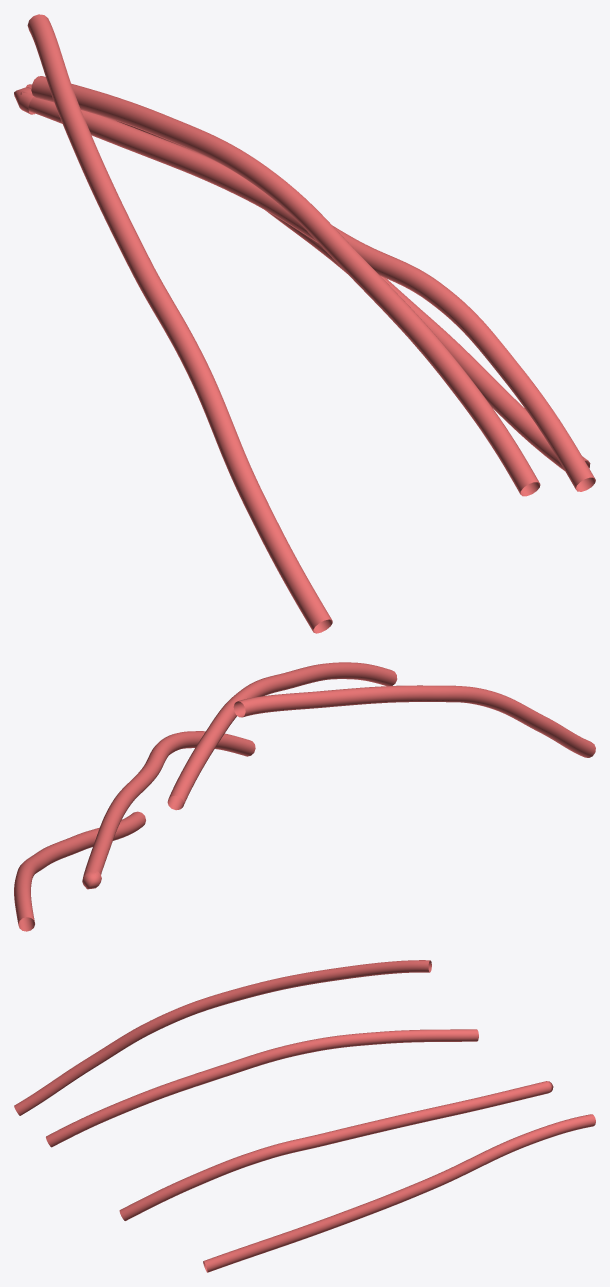
The model's file is Plantar_metatarsal_arteries.l_BezierCurve.216.glb.
3 views of the same model, one above another, from view 1: azimuth 30°, elevation 25°; view 2: azimuth 150°, elevation 25°; view 3: azimuth 270°, elevation 25° (orthographic). The views are drawn at different scales.
Parts seen in each view (by area): view 1: Plantar_metatarsal_arteries.l_BezierCurve.216; view 2: Plantar_metatarsal_arteries.l_BezierCurve.216; view 3: Plantar_metatarsal_arteries.l_BezierCurve.216.
Boxes of the visible parts, left/top/right/bottom form: Plantar_metatarsal_arteries.l_BezierCurve.216: left=14, top=14, right=595, bottom=633; Plantar_metatarsal_arteries.l_BezierCurve.216: left=14, top=662, right=595, bottom=931; Plantar_metatarsal_arteries.l_BezierCurve.216: left=14, top=960, right=595, bottom=1272.
Size of the model in its own units: 0.0325 by 0.0273 by 0.0654.
